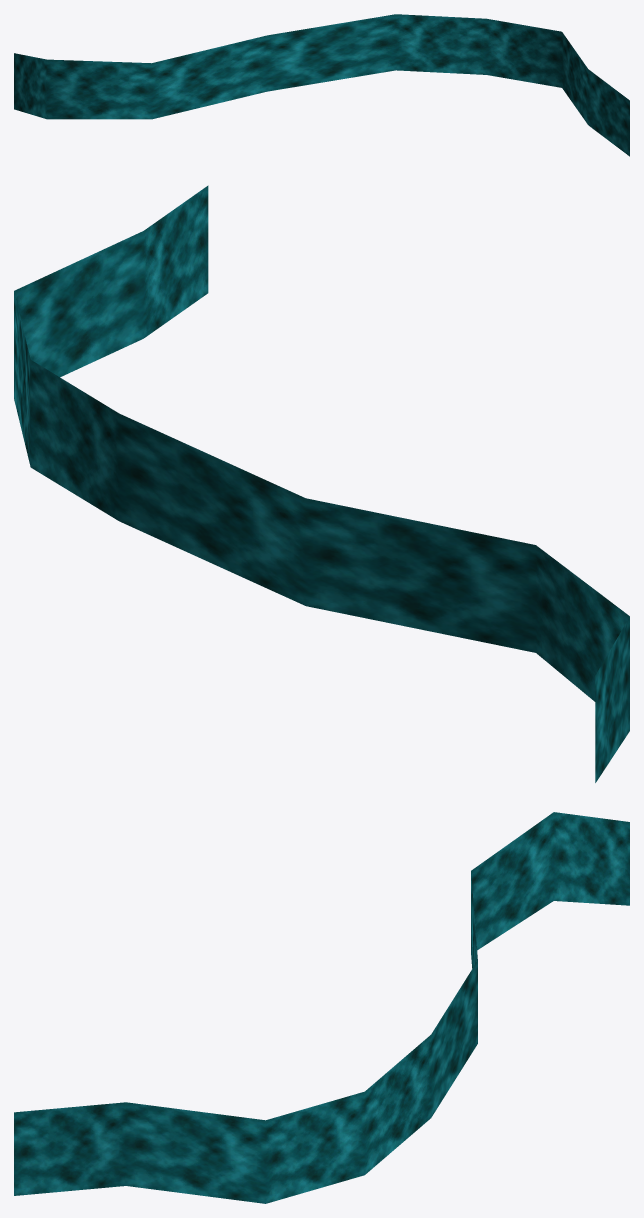
Rendered from MIRKWOOD_FOGC.fbx.
The picture shows the model from 3 angles, top to bottom: view 1: azimuth 30°, elevation 25°; view 2: azimuth 150°, elevation 25°; view 3: azimuth 270°, elevation 25°; orthographic projection. The views are drawn at different scales.
Visible parts, largest first — view 1: MIRKWOOD_FOGC; view 2: MIRKWOOD_FOGC; view 3: MIRKWOOD_FOGC.
Part boxes in pixels (x1,y1,x2,y2): MIRKWOOD_FOGC: (14, 14, 629, 156); MIRKWOOD_FOGC: (14, 185, 629, 782); MIRKWOOD_FOGC: (14, 812, 629, 1203).
Bounding box in the file's own units: 656364 × 99043 × 553127.
Materials: 1 (1 with a texture image).
